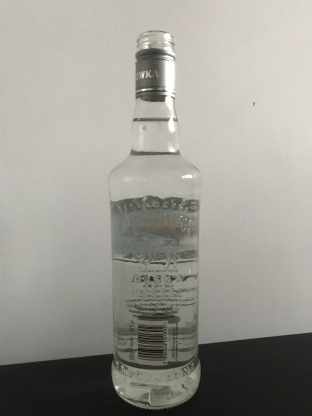nakretka: (133, 27, 177, 102)
